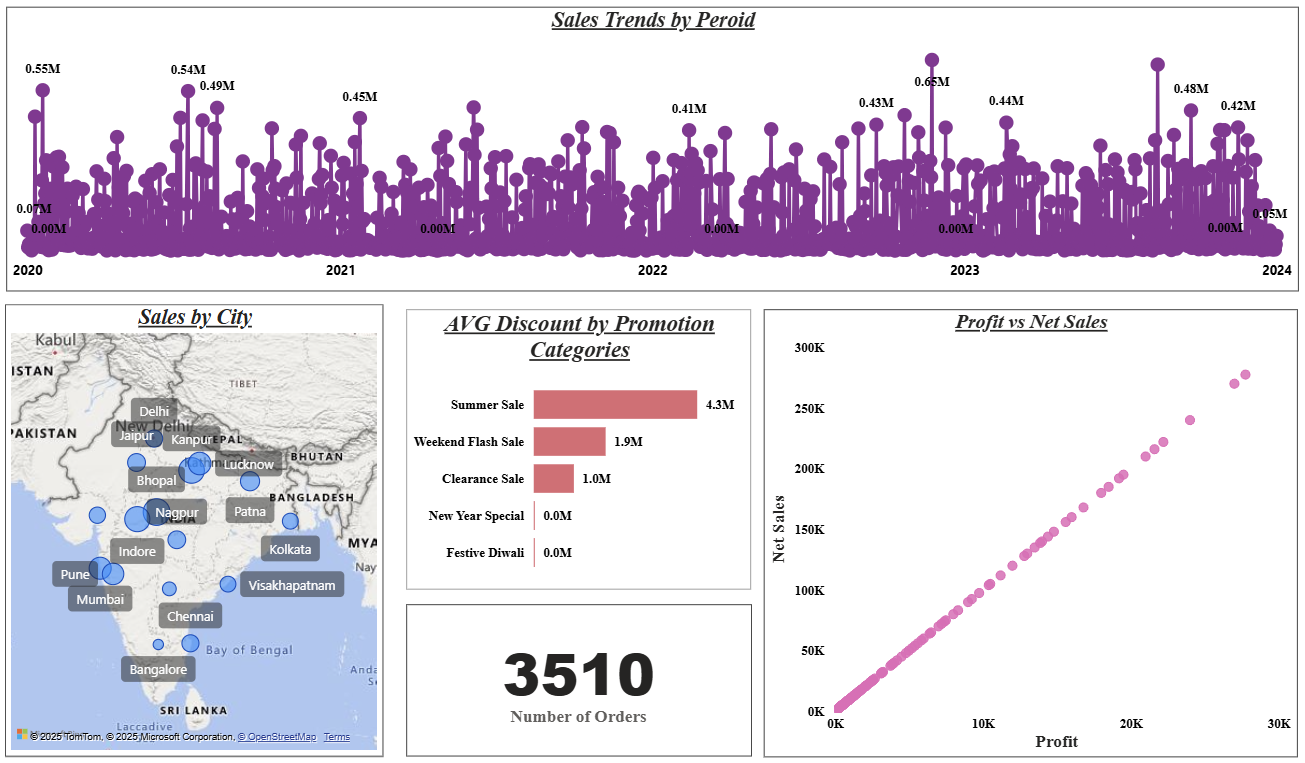

What the dashboard file says about the page in this screenshot:
{"tool":"powerbi","page":{"name":"OVERVIEW","canvas":[1280,720],"ordinal":0},"visuals":[{"type":"lineChart","title":"Sales Trends by Peroid","fields":{"Y":["Sum(Fact Table.Net Sales)"],"Category":["Fact Table.Date (dd/mm/yyyy).Variation.Date Hierarchy.Year"]},"box":[38.4,22,1202.1,264.8],"z":0},{"type":"scatterChart","title":"Profit vs Net Sales","fields":{"X":["Fact Table.Profit"],"Y":["Fact Table.Net Sales"]},"box":[743.7,303.3,496.7,370.5],"z":1000},{"type":"barChart","title":"AVG Discount by Promotion Categories","fields":{"Y":["Sum(Fact Table.Discount Value)"],"Category":["Dim Promotion.Promotion Name"]},"box":[410.3,303.3,321.1,260.7],"z":2000},{"type":"map","title":"Sales by City","fields":{"Category":["Dim Customers.City"],"Size":["Sum(Fact Table.Net Sales)"]},"box":[37.9,299.6,352.2,420.7],"z":3000},{"type":"card","fields":{"Values":["Count(Fact Table.Order ID)"]},"box":[410.9,578.4,321.6,114.9],"z":4000}]}

Visuals, with their boxes on the page's 1280x720 design canvas (x1, y1, x2, y2). These are canvas units, not pixel positions in the 1305x763 screenshot, which may show the page scaled, cropped or inside an application window:
"Sales Trends by Peroid" lineChart: bbox=[38, 22, 1240, 287]
"Profit vs Net Sales" scatterChart: bbox=[744, 303, 1240, 674]
"AVG Discount by Promotion Categories" barChart: bbox=[410, 303, 731, 564]
"Sales by City" map: bbox=[38, 300, 390, 720]
card - Count(Fact Table.Order ID): bbox=[411, 578, 732, 693]
